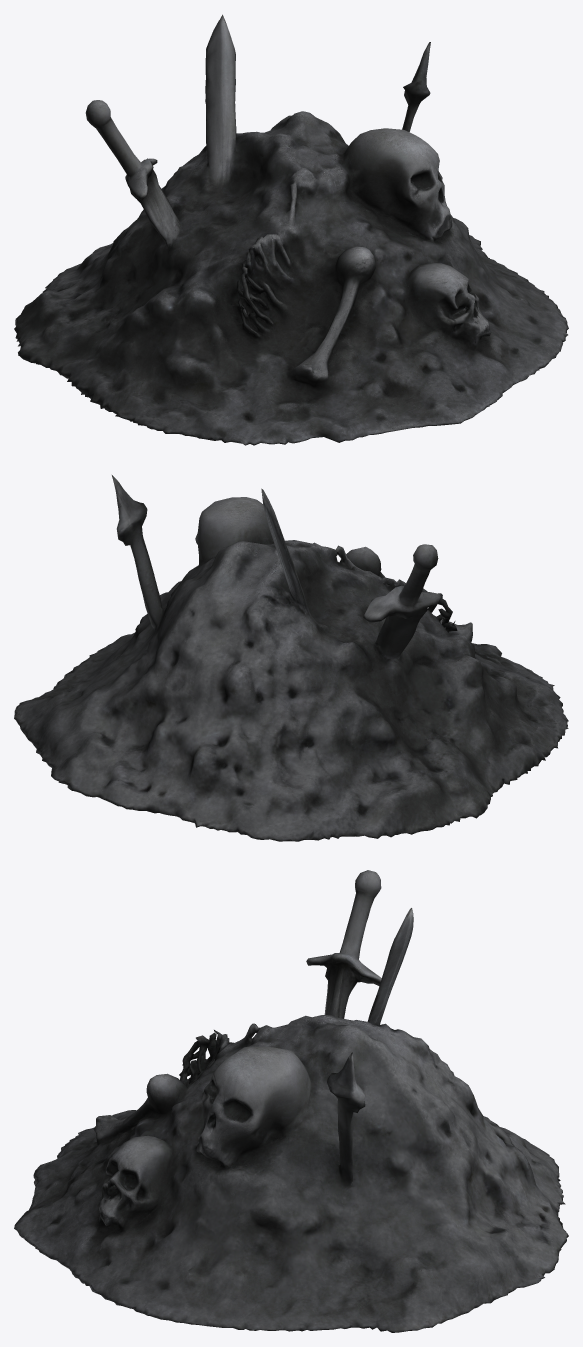
The model's file is ash_pile.glb.
3 renders of one model, top to bottom at view 1: azimuth 30°, elevation 25°; view 2: azimuth 150°, elevation 25°; view 3: azimuth 270°, elevation 25°, orthographic. The views are drawn at different scales.
Bounding box in the file's own units: 2 × 1.18 × 1.98.
Materials: 1 (1 with a texture image).
